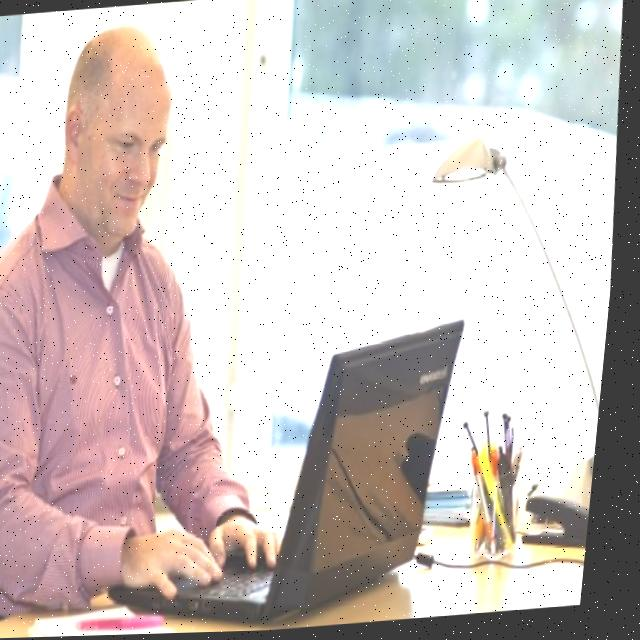notebook-person: (0, 0, 528, 640)
